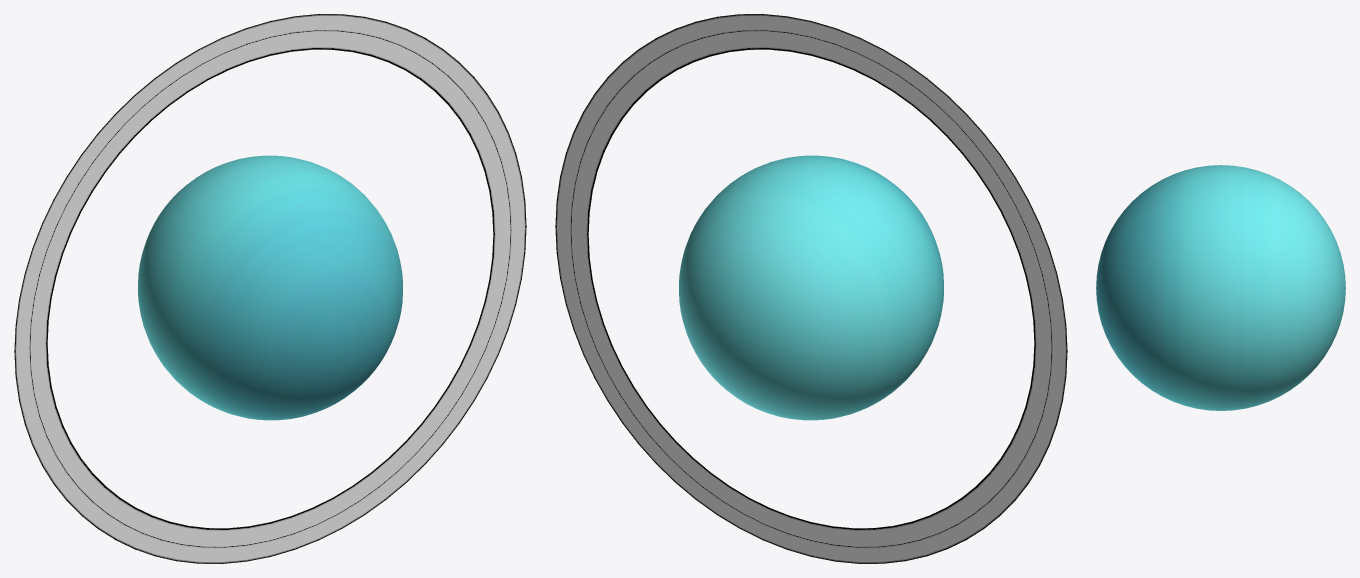
File: uranus.obj
3 renders of one model, left to right at view 1: azimuth 30°, elevation 25°; view 2: azimuth 150°, elevation 25°; view 3: azimuth 270°, elevation 25°, orthographic. The views are drawn at different scales.
Parts seen in each view (by area): view 1: Uranus_clouds_2_0, Ring_3_0; view 2: Uranus_clouds_2_0, Ring_3_0; view 3: Uranus_clouds_2_0.
Boxes of the visible parts, bbox=[...] form: Uranus_clouds_2_0: bbox=[138, 155, 402, 420]; Ring_3_0: bbox=[14, 14, 526, 563]; Uranus_clouds_2_0: bbox=[679, 155, 943, 420]; Ring_3_0: bbox=[555, 14, 1067, 563]; Uranus_clouds_2_0: bbox=[1096, 165, 1345, 410].
Size of the model in its own units: 200000 by 200000 by 90773.
3 materials, 3 textured.
